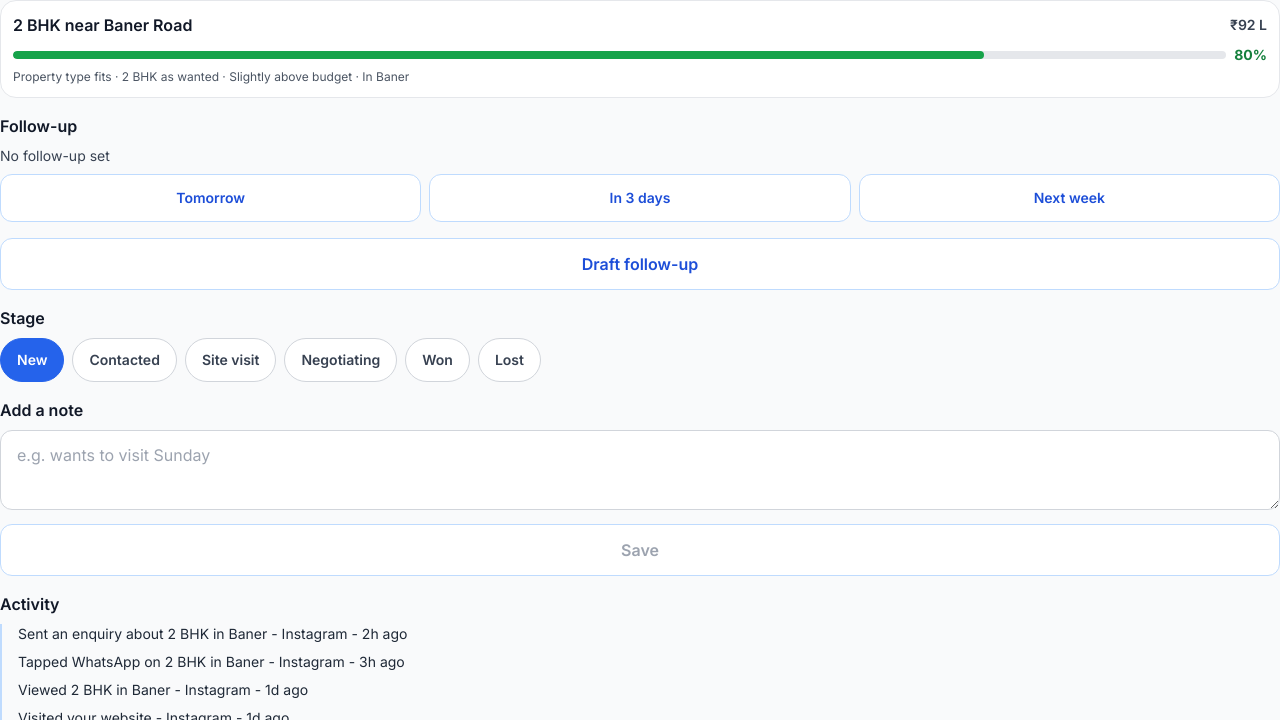
Test: Deal closed sheet (stage Won) › a failed save keeps the sheet open with the message
(page scrolled)
Click the button "Won" at [438, 360], box [405,338,470,382]
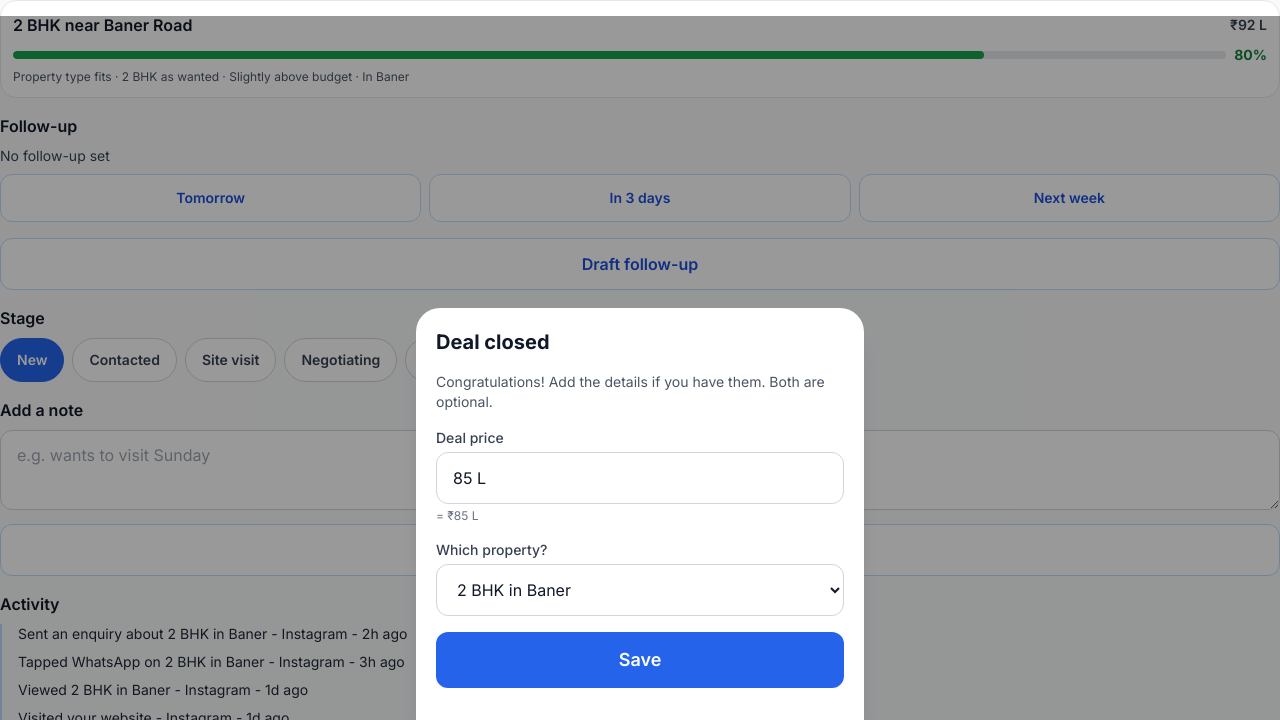
Click the button "Save" at [640, 660], box [436,632,844,688]
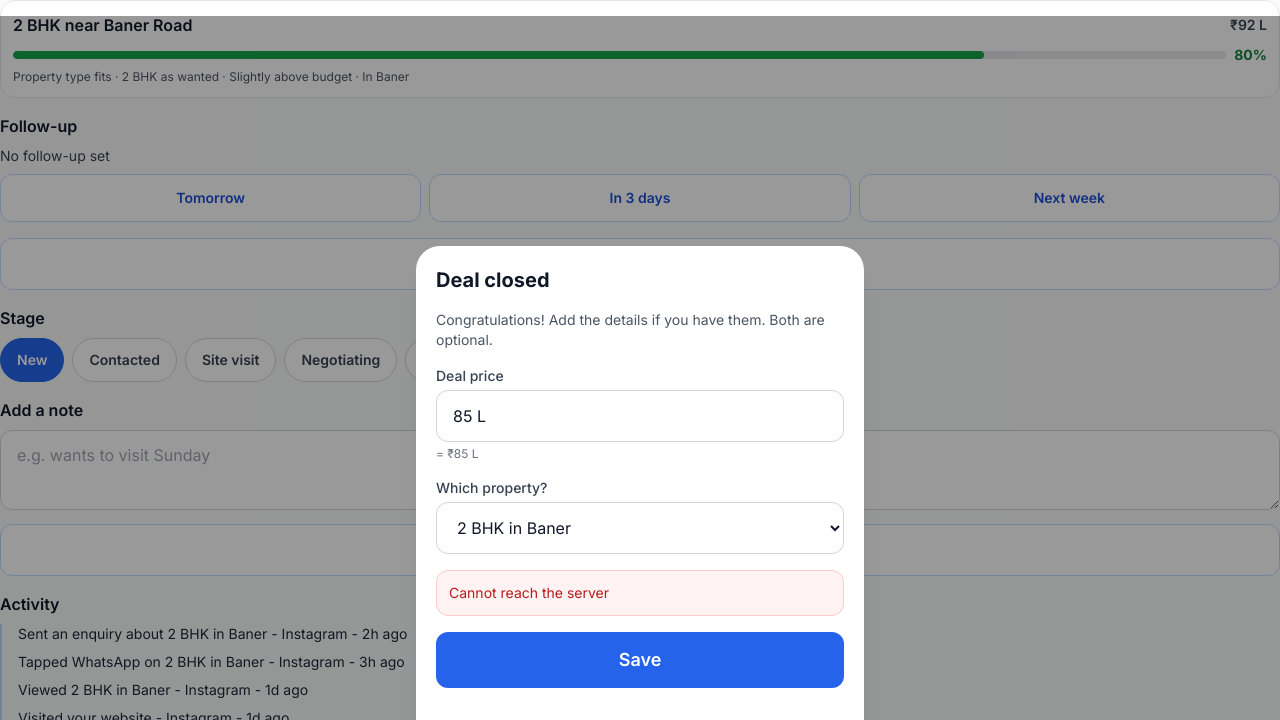
Check: the dialog "Deal closed" is shown, box [416,246,864,719]
Check: the message reads "Cannot reach the server", box [449,584,609,601]
